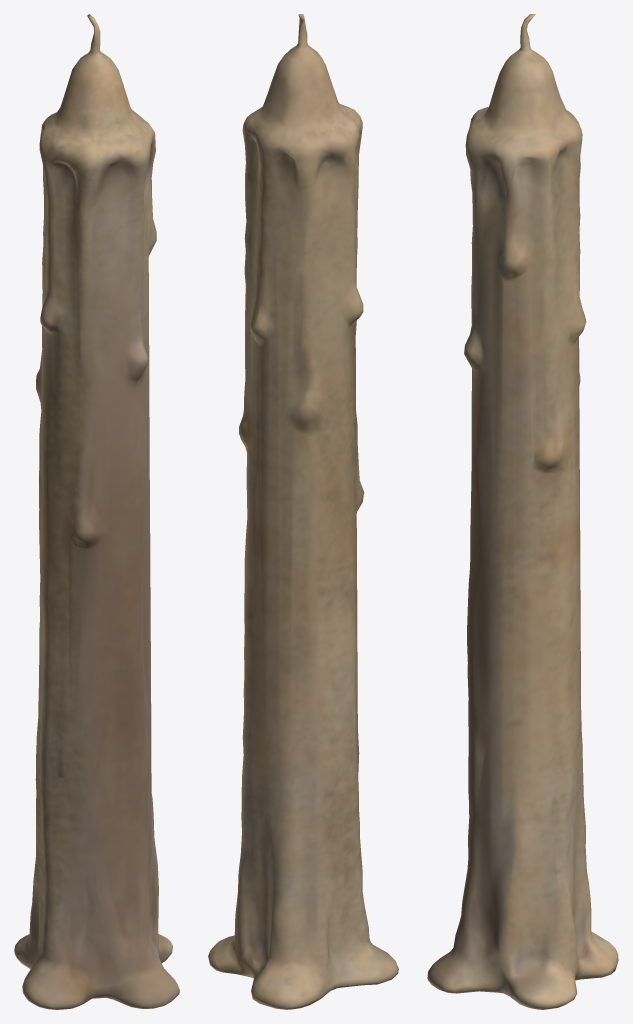
The model's file is SM_Candle_low.fbx.
The picture shows the model from 3 angles, left to right: view 1: azimuth 30°, elevation 25°; view 2: azimuth 150°, elevation 25°; view 3: azimuth 270°, elevation 25°; orthographic projection.
Visible parts, largest first — view 1: SM_Candle_low_LOD0; view 2: SM_Candle_low_LOD0; view 3: SM_Candle_low_LOD0.
Boxes of the visible parts, x1,y1,x2,y2 form: SM_Candle_low_LOD0: (14,14,179,1009); SM_Candle_low_LOD0: (208,14,398,1009); SM_Candle_low_LOD0: (427,14,618,1009).
Bounding box in the file's own units: 5.79 × 5.97 × 33.01.
